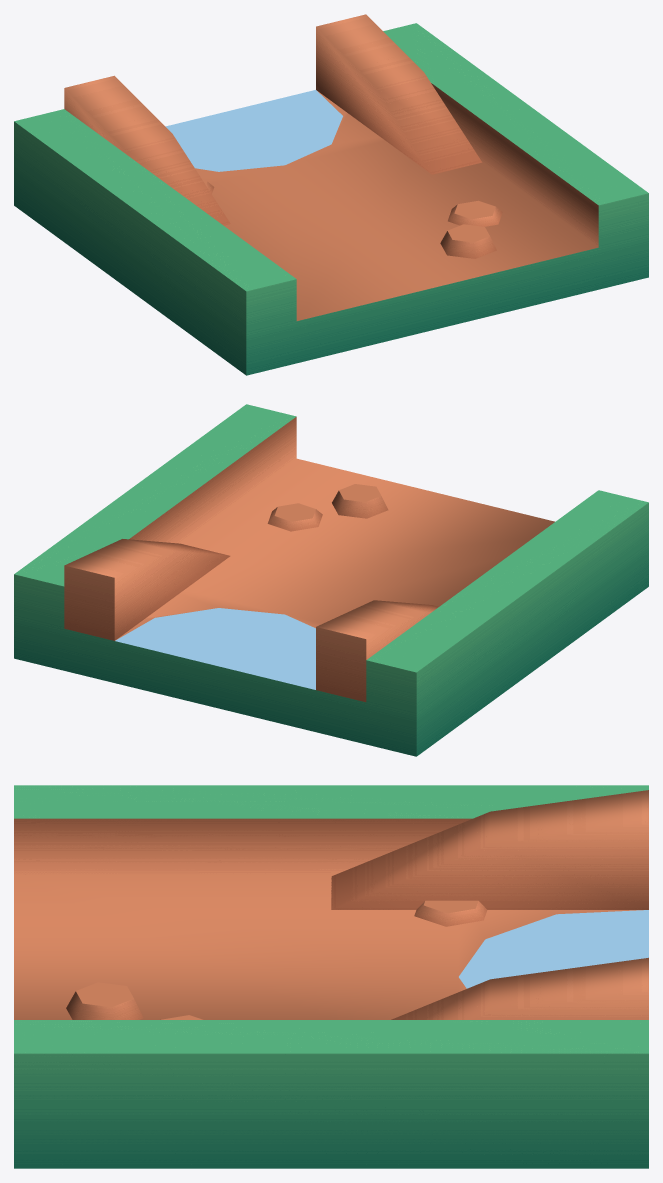
File: tile-river-transition.glb
The picture shows the model from 3 angles, top to bottom: view 1: azimuth 30°, elevation 25°; view 2: azimuth 150°, elevation 25°; view 3: azimuth 270°, elevation 25°; orthographic projection. The views are drawn at different scales.
Visible parts, largest first — view 1: tile-river-transition; view 2: tile-river-transition; view 3: tile-river-transition.
Part boxes in pixels (x1,y1,x2,y2): tile-river-transition: [14, 14, 648, 375]; tile-river-transition: [14, 404, 648, 756]; tile-river-transition: [14, 785, 648, 1168].
Bounding box in the file's own units: 3 × 0.75 × 3.
Materials: 1 (1 with a texture image).
